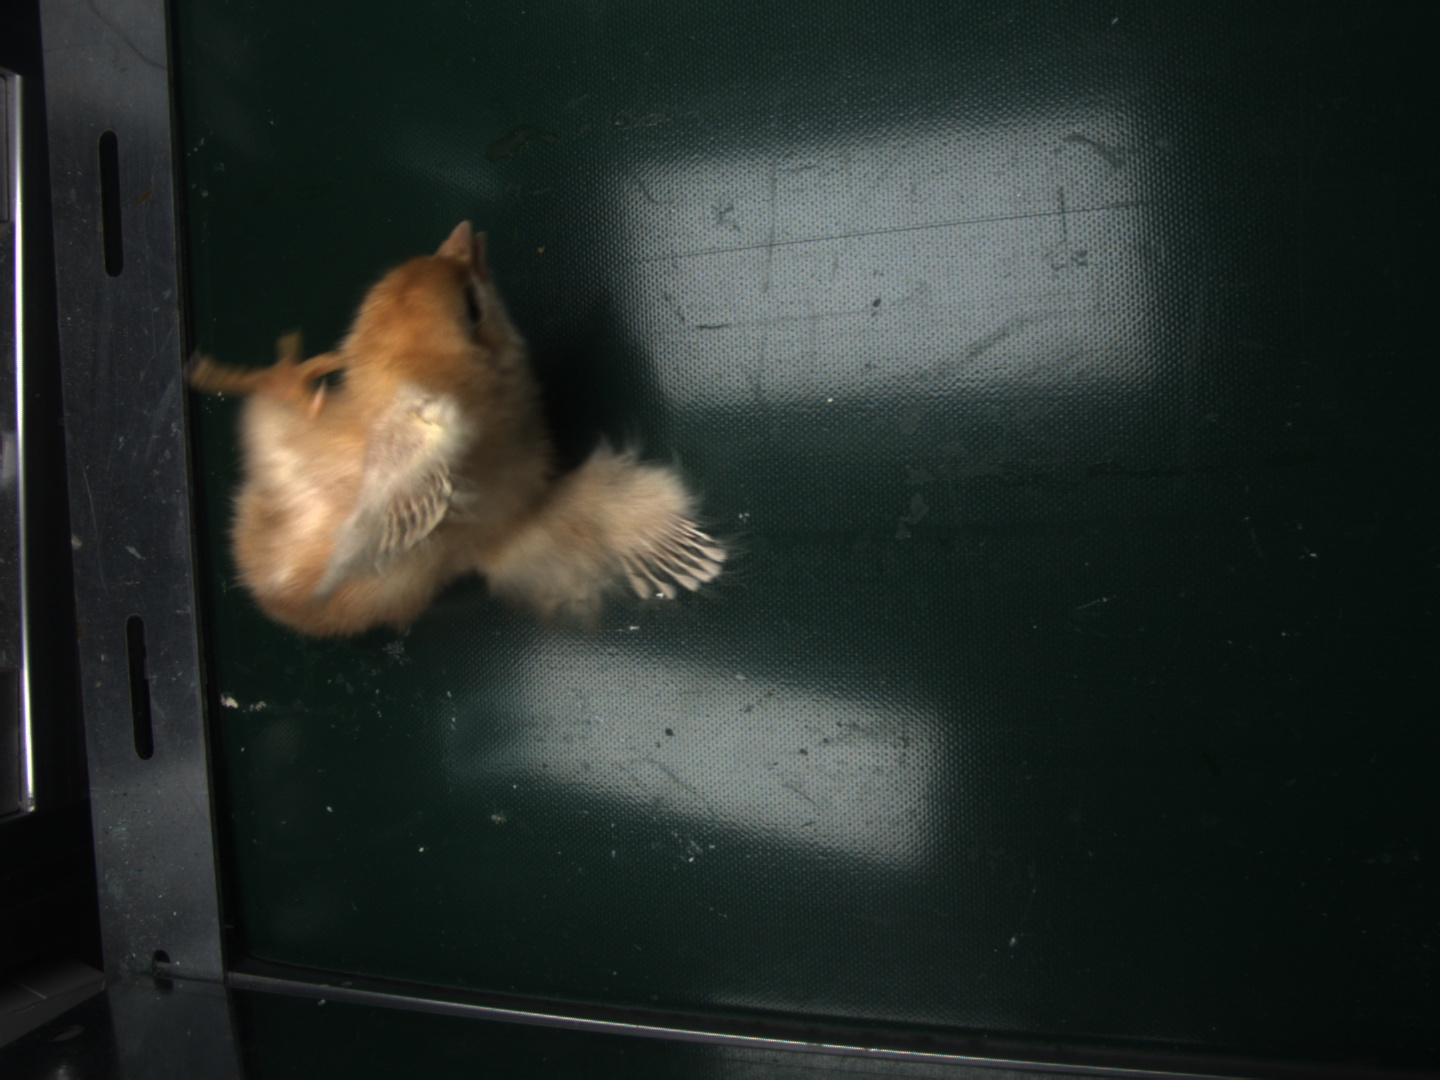female: (625, 515, 730, 597)
